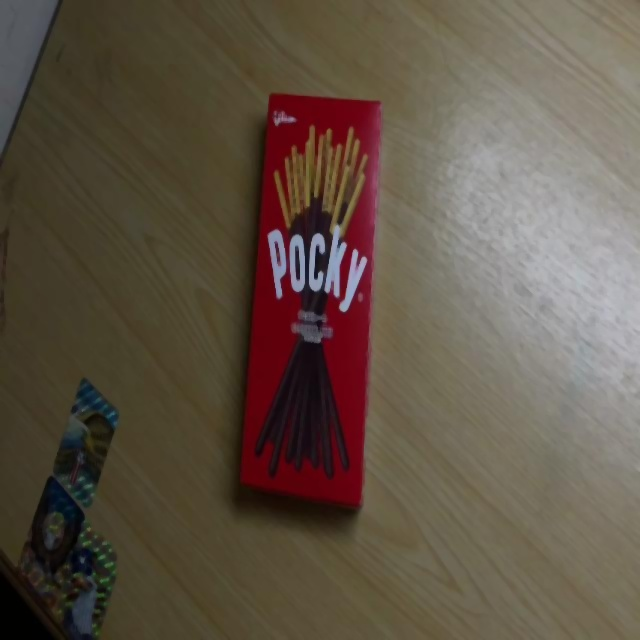Pocky: (240, 91, 382, 508)
